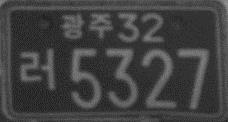2: (141, 47, 178, 110), (140, 10, 164, 45)
3: (104, 47, 139, 111), (116, 11, 139, 44)
5: (69, 46, 101, 110)
7: (175, 45, 212, 110)
광주_O: (59, 10, 114, 40)
러: (17, 47, 57, 93)
